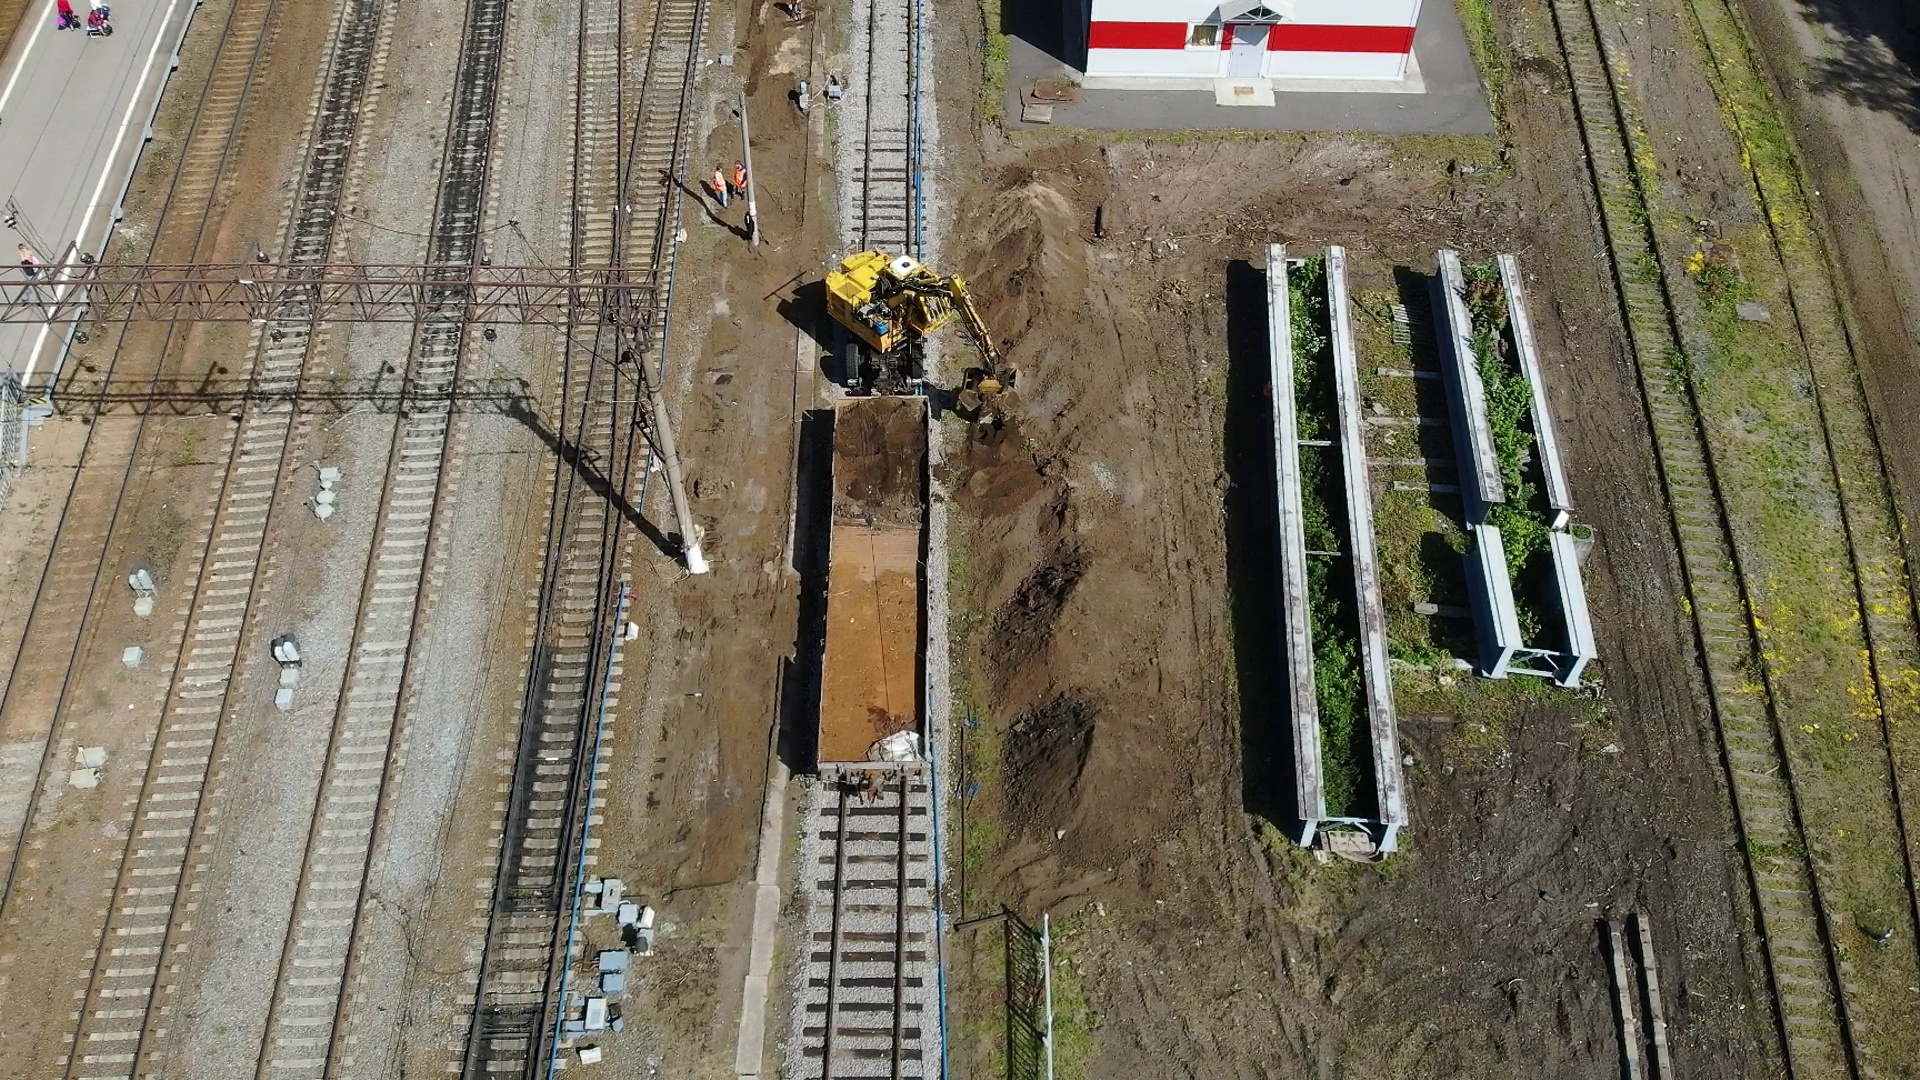kjtv: (823, 248, 971, 376)
